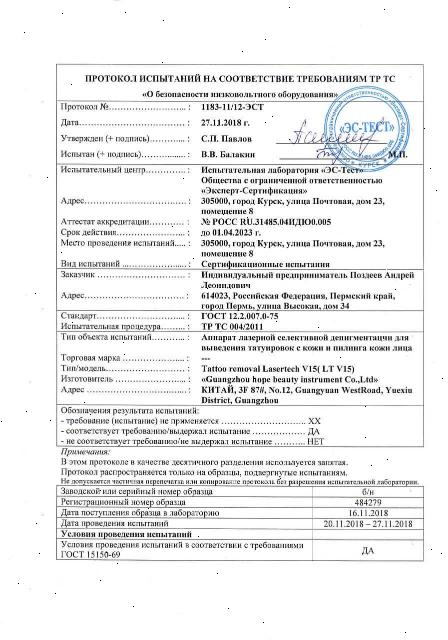stamp: (322, 87, 410, 171)
